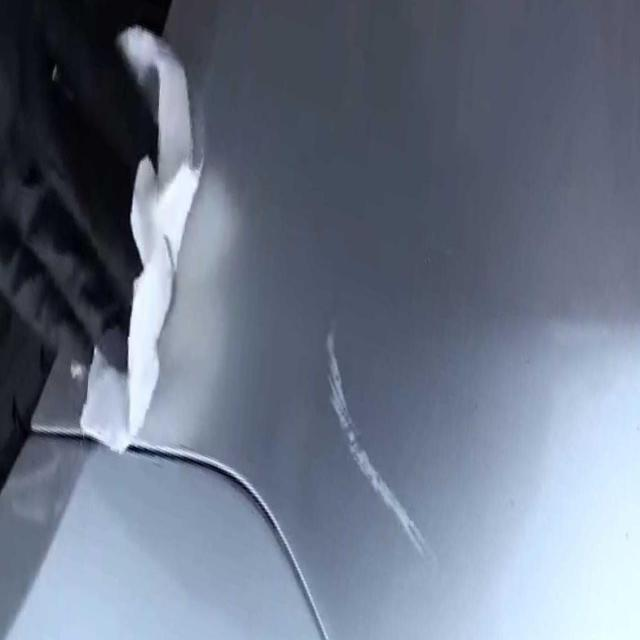scratch: (316, 315, 430, 565)
